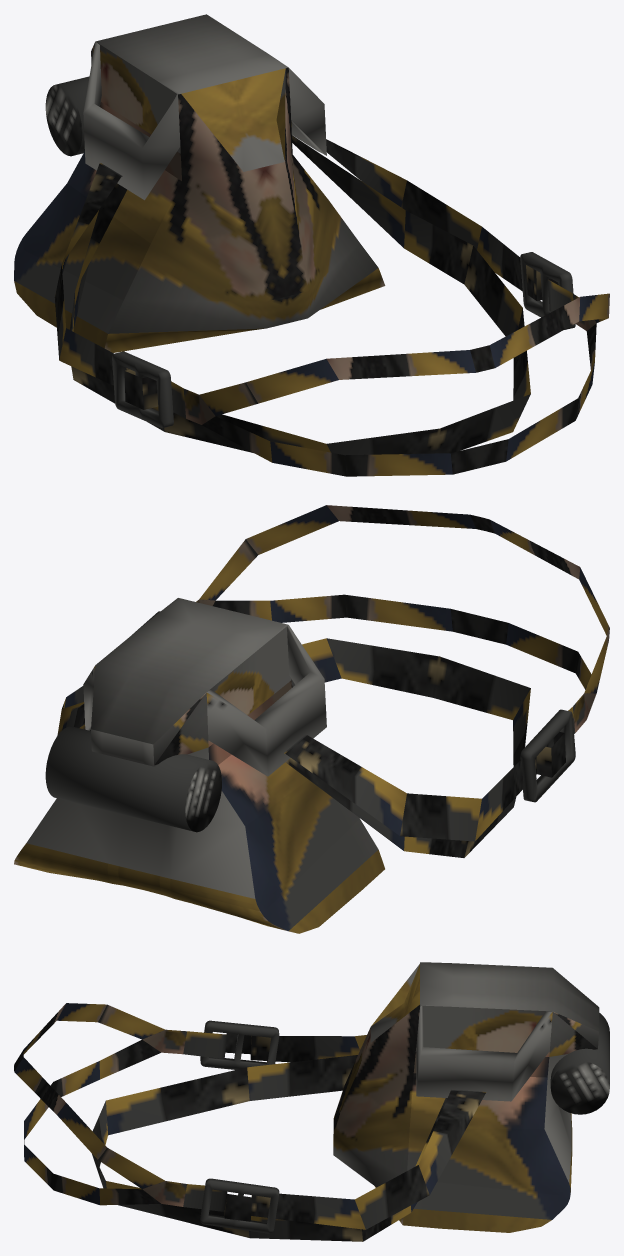
The model's file is TacticalRespirator2_Ground.fbx.
3 views of the same model, one above another, from view 1: azimuth 30°, elevation 25°; view 2: azimuth 150°, elevation 25°; view 3: azimuth 270°, elevation 25° (orthographic). The views are drawn at different scales.
Parts seen in each view (by area): view 1: TR2; view 2: TR2; view 3: TR2.
Boxes of the visible parts, x1=… form: TR2: x1=14, y1=14, x2=609, y2=476; TR2: x1=14, y1=505, x2=609, y2=933; TR2: x1=14, y1=962, x2=609, y2=1241.
Size of the model in its own units: 9.34 by 5.04 by 14.04.
